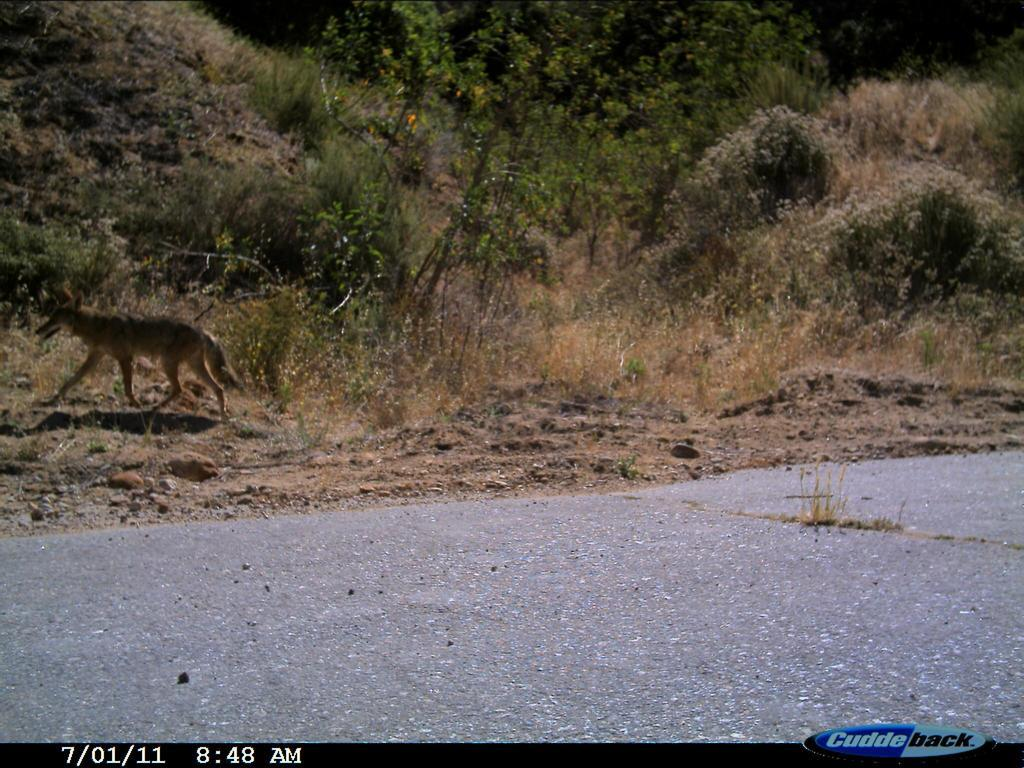coyote: (35, 280, 254, 436)
